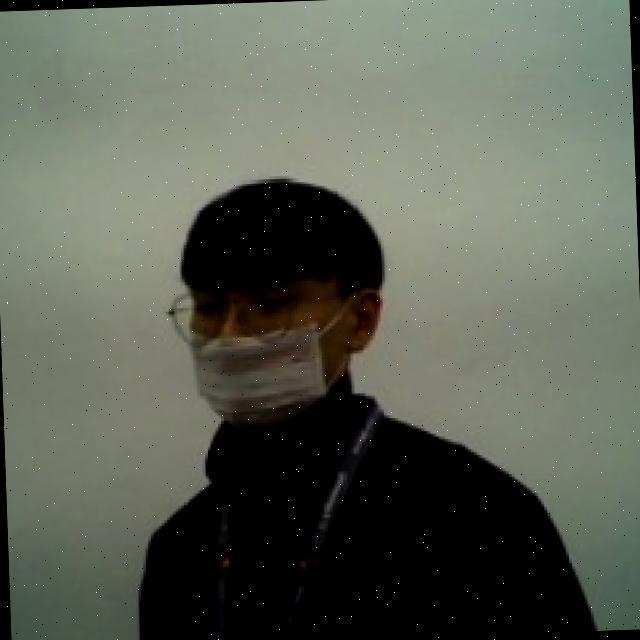mask: (181, 292, 377, 447)
no_gloves: (174, 165, 388, 297)
